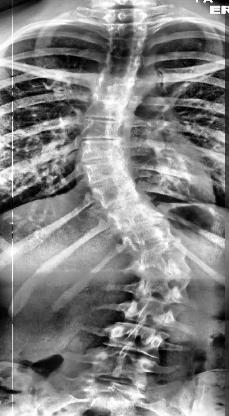Vertebrae: (84, 348, 156, 384), (102, 321, 169, 357), (115, 296, 179, 332), (125, 276, 192, 310), (128, 246, 190, 282), (104, 192, 160, 228), (121, 219, 174, 251), (90, 178, 146, 206), (80, 158, 138, 184), (82, 93, 134, 120), (88, 72, 140, 98), (78, 118, 130, 142), (78, 139, 130, 163), (98, 54, 146, 76), (106, 38, 148, 56), (104, 23, 149, 39)
